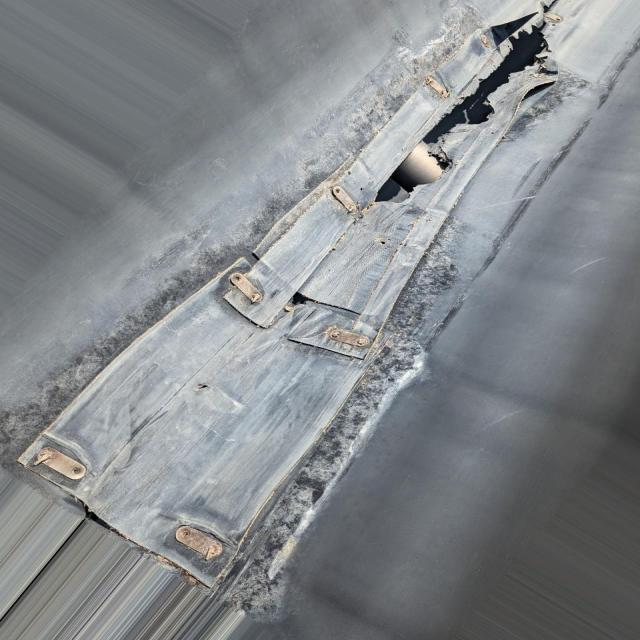Hole: (366, 35, 539, 205)
patch work: (18, 257, 389, 598), (251, 8, 551, 325)
